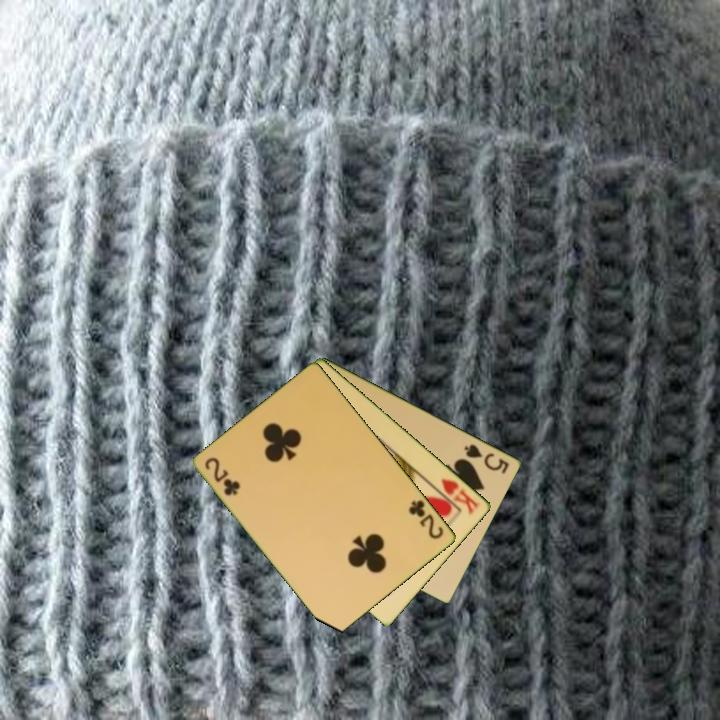2c: (405, 496, 447, 542), (202, 453, 243, 499)
5s: (461, 440, 512, 476)
Kh: (430, 475, 483, 518)
